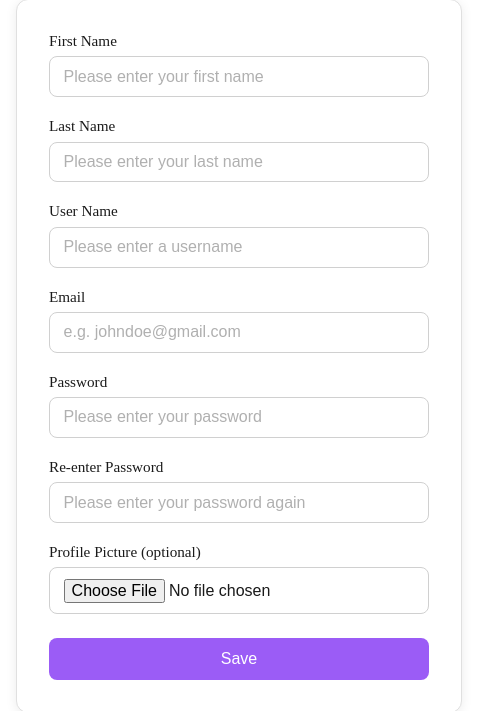
Test: SignUpForm › shows error when password is shorter than 8 characters
This screenshot has width=479, height=711.
Type "Bon" into the field labelled "First Name" at {"x": 239, "y": 77}, box x1=49 y1=56 x2=429 y2=97
Type "Bobson" into the field labelled "Last Name" at {"x": 239, "y": 162}, box x1=49 y1=142 x2=429 y2=182
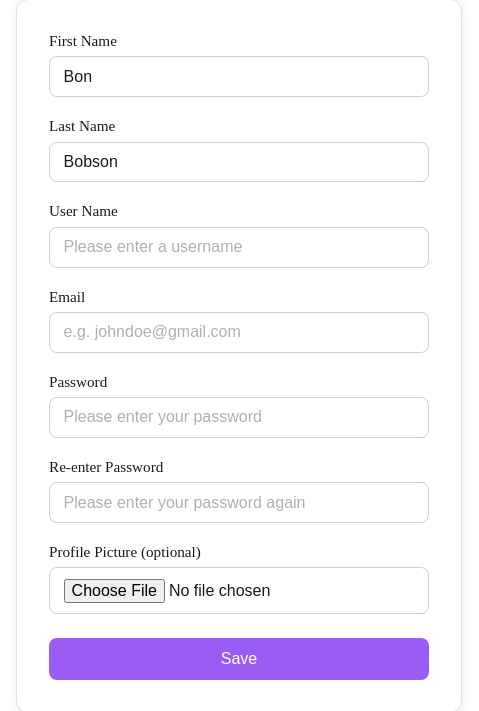
Type "BBobson" into the field labelled "User Name" at {"x": 239, "y": 247}, box x1=49 y1=227 x2=429 y2=268
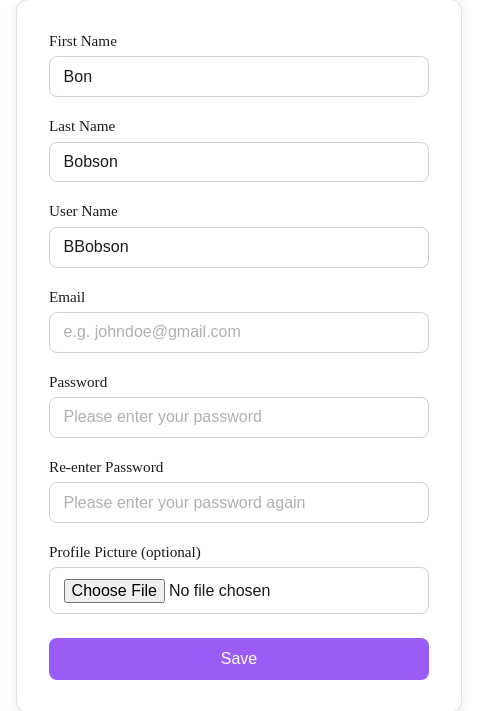
Type "bob@email.com" into the field labelled "Email" at {"x": 239, "y": 332}, box x1=49 y1=312 x2=429 y2=353
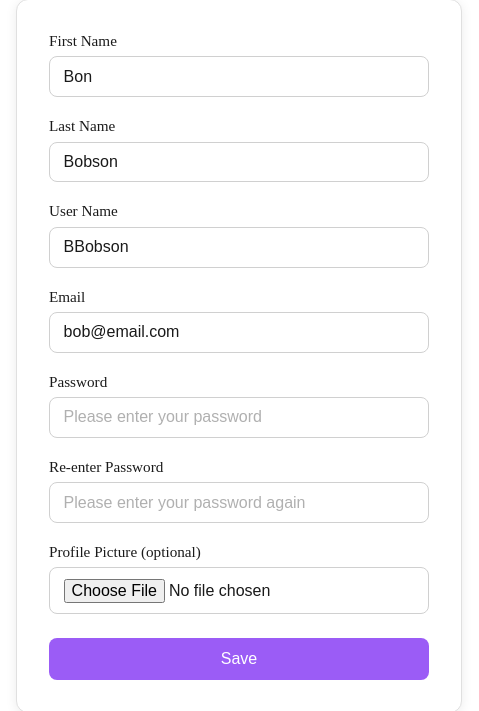
Type "short" into the password field labelled "Password" at {"x": 239, "y": 418}, box x1=49 y1=397 x2=429 y2=438
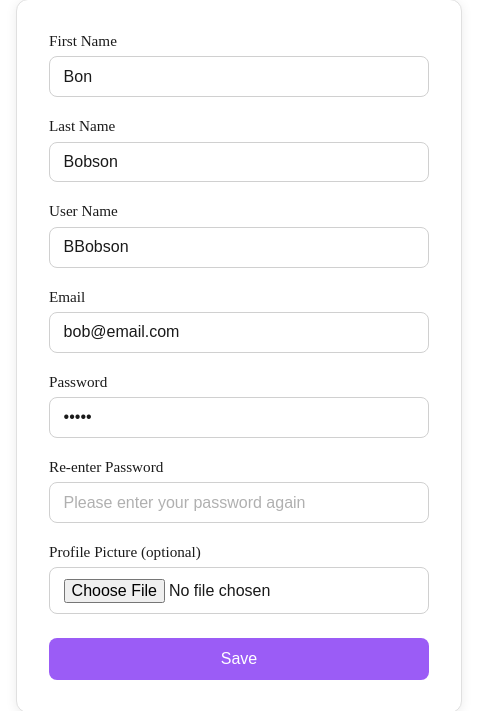
Type "short" into the password field labelled "Re-enter Password" at {"x": 239, "y": 503}, box x1=49 y1=482 x2=429 y2=523
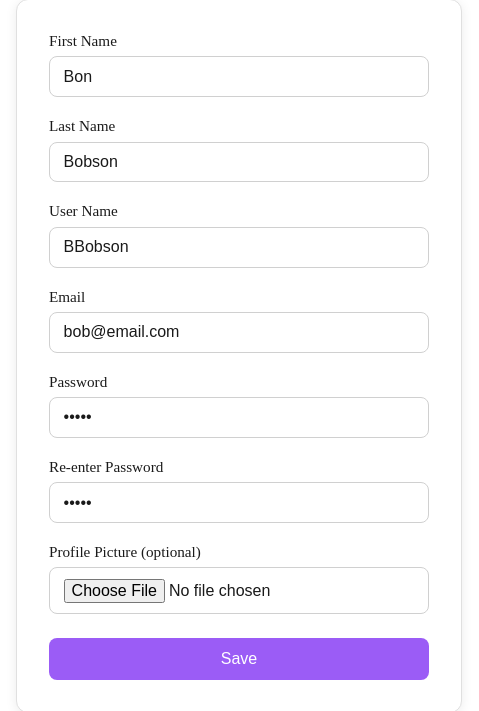
Click the button "Save" at {"x": 239, "y": 659}, box x1=49 y1=638 x2=429 y2=680
(page scrolled)
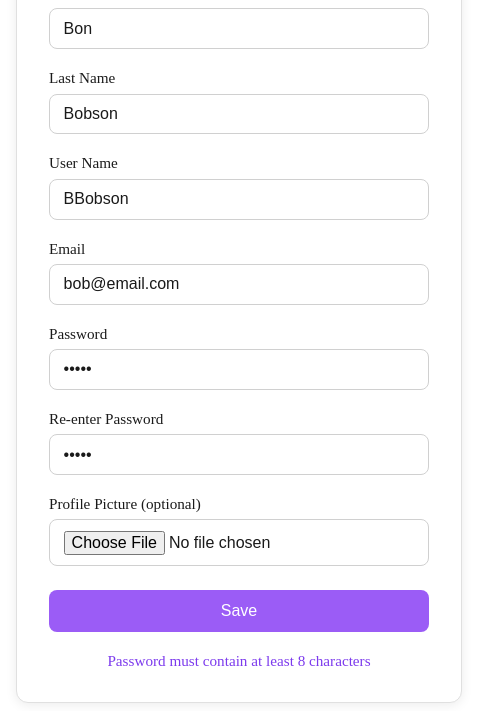
Check: the text "Password must contain at least 8 characters" is shown, box x1=107 y1=652 x2=371 y2=669
